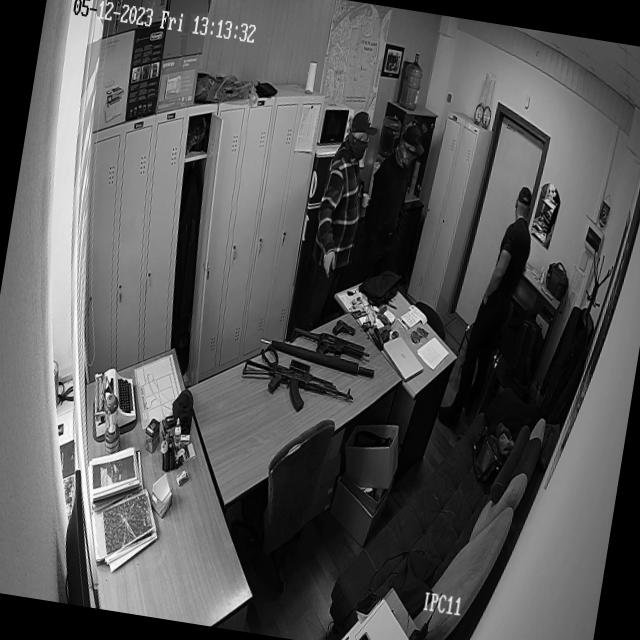gun: (236, 357, 358, 422), (286, 326, 372, 366), (331, 318, 357, 340)
person: (488, 184, 554, 294), (375, 122, 436, 224)
person with a gun: (295, 90, 385, 356)
